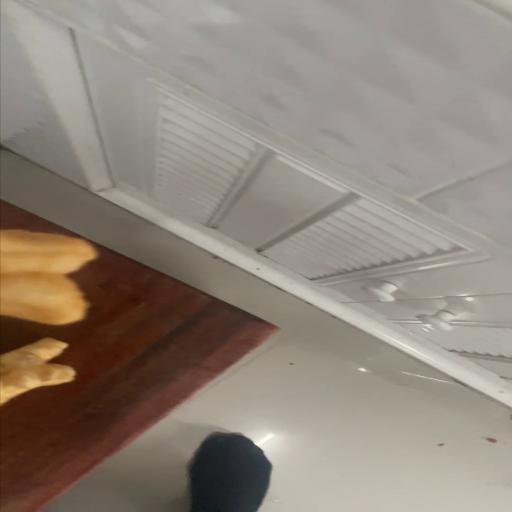street_golden_good: (2, 228, 98, 327)
